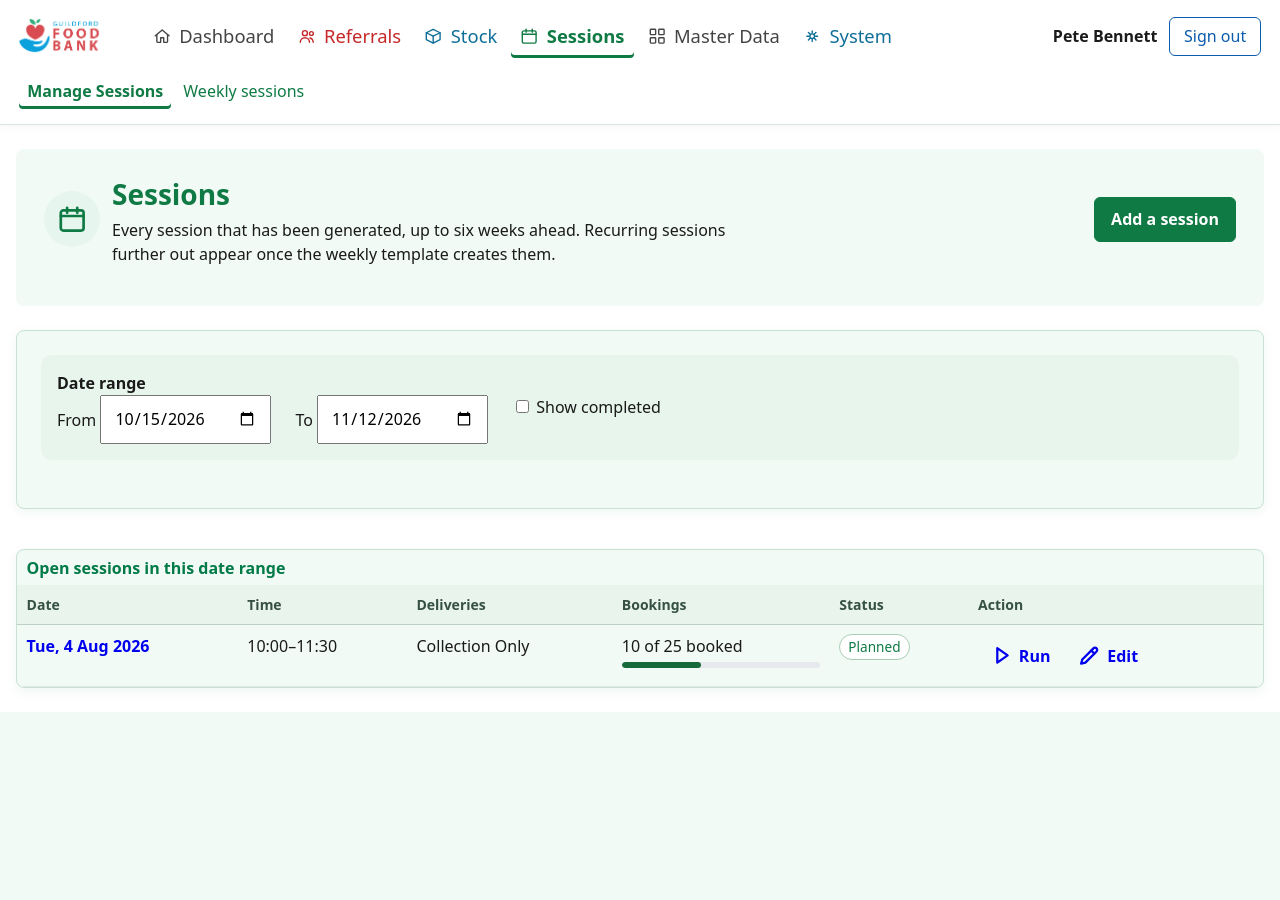
Scenario: an admin’s planning view › hides a completed or cancelled session until Show completed is ticked
Expected: the link with aria-label "Tue, 4 Aug 2026," is shown, 27,634 -> 150,656
Step 1. Click the checkbox labelled "Show completed" → (522, 407), box 516,400 -> 529,413
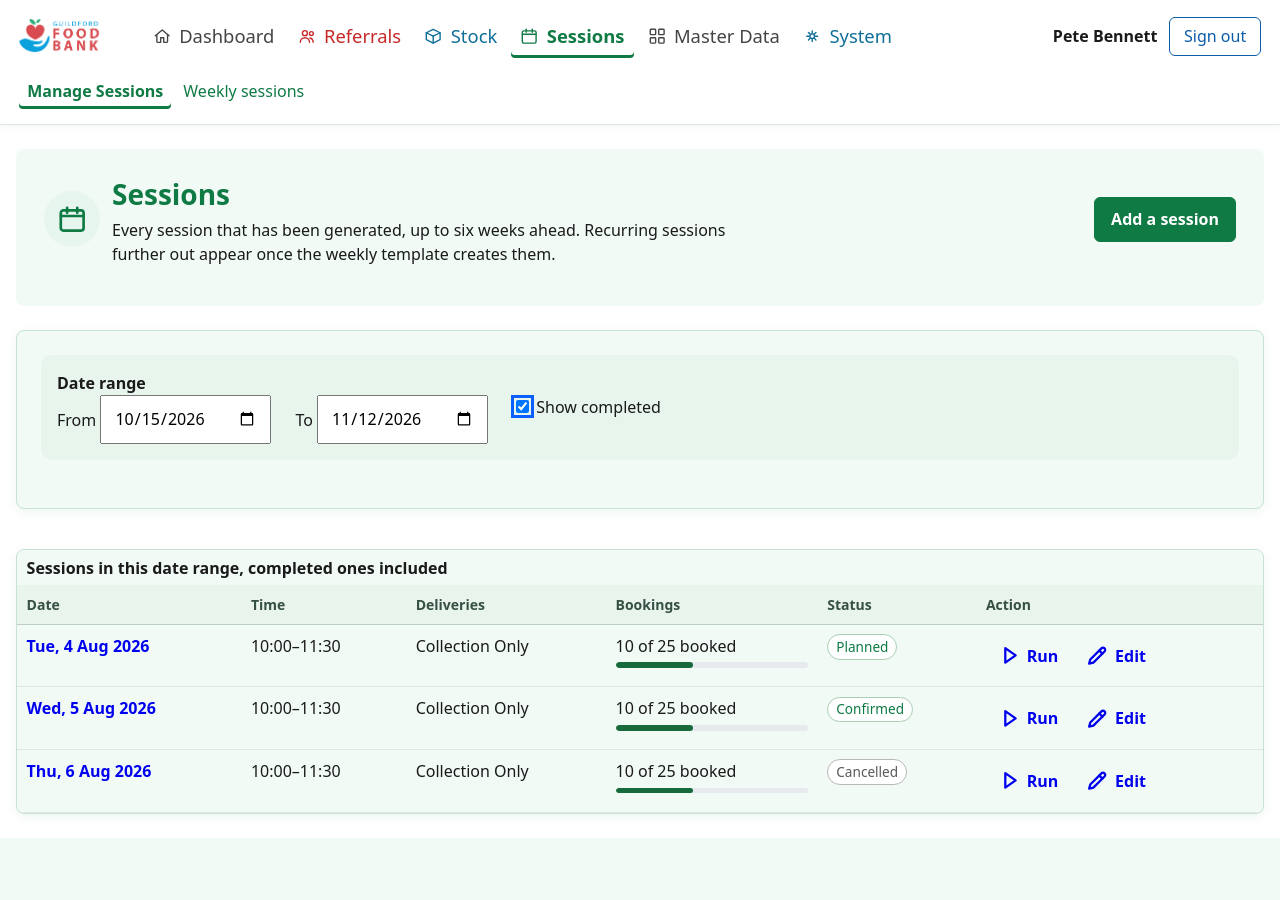
Expected: the link with aria-label "Wed, 5 Aug 2026," is shown, 27,697 -> 156,719
Expected: the link with aria-label "Thu, 6 Aug 2026," is shown, 27,760 -> 151,782
Expected: the text "Confirmed" is shown, 827,696 -> 913,722
